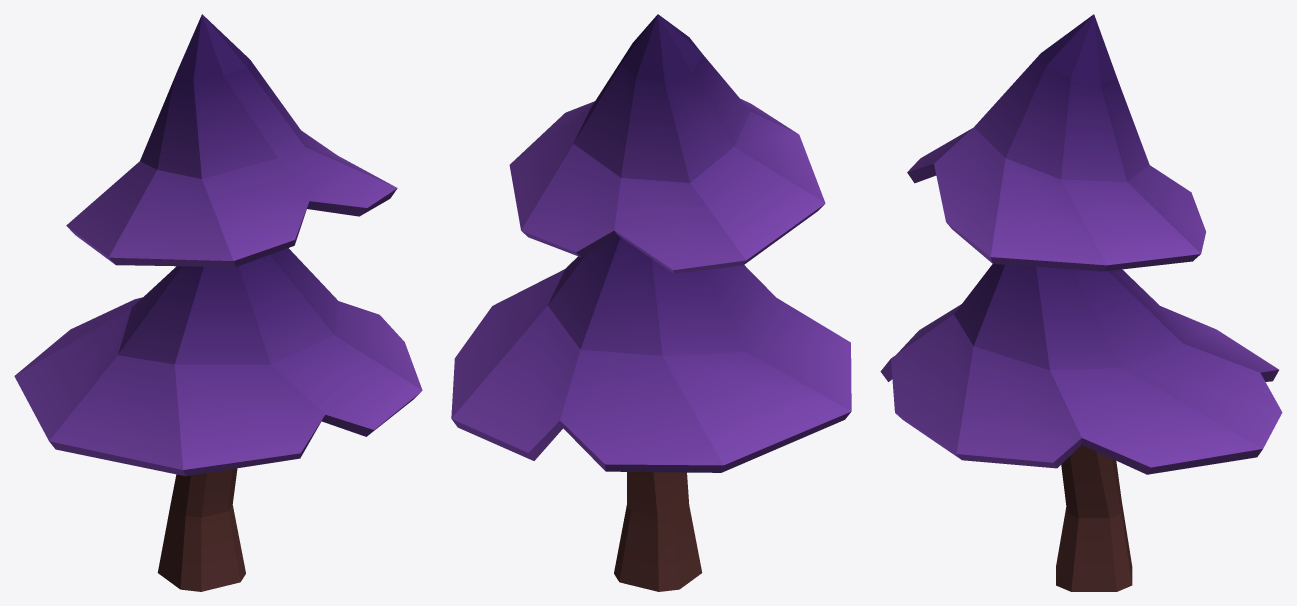
The model's file is MagicPine7.fbx.
3 renders of one model, left to right at view 1: azimuth 30°, elevation 25°; view 2: azimuth 150°, elevation 25°; view 3: azimuth 270°, elevation 25°, orthographic.
Parts seen in each view (by area): view 1: MagicPine7; view 2: MagicPine7; view 3: MagicPine7.
Boxes of the visible parts, left/top/right/bottom form: MagicPine7: left=14, top=14, right=422, bottom=591; MagicPine7: left=451, top=14, right=851, bottom=591; MagicPine7: left=880, top=14, right=1282, bottom=591.
Bounding box in the file's own units: 308 × 463 × 300.
